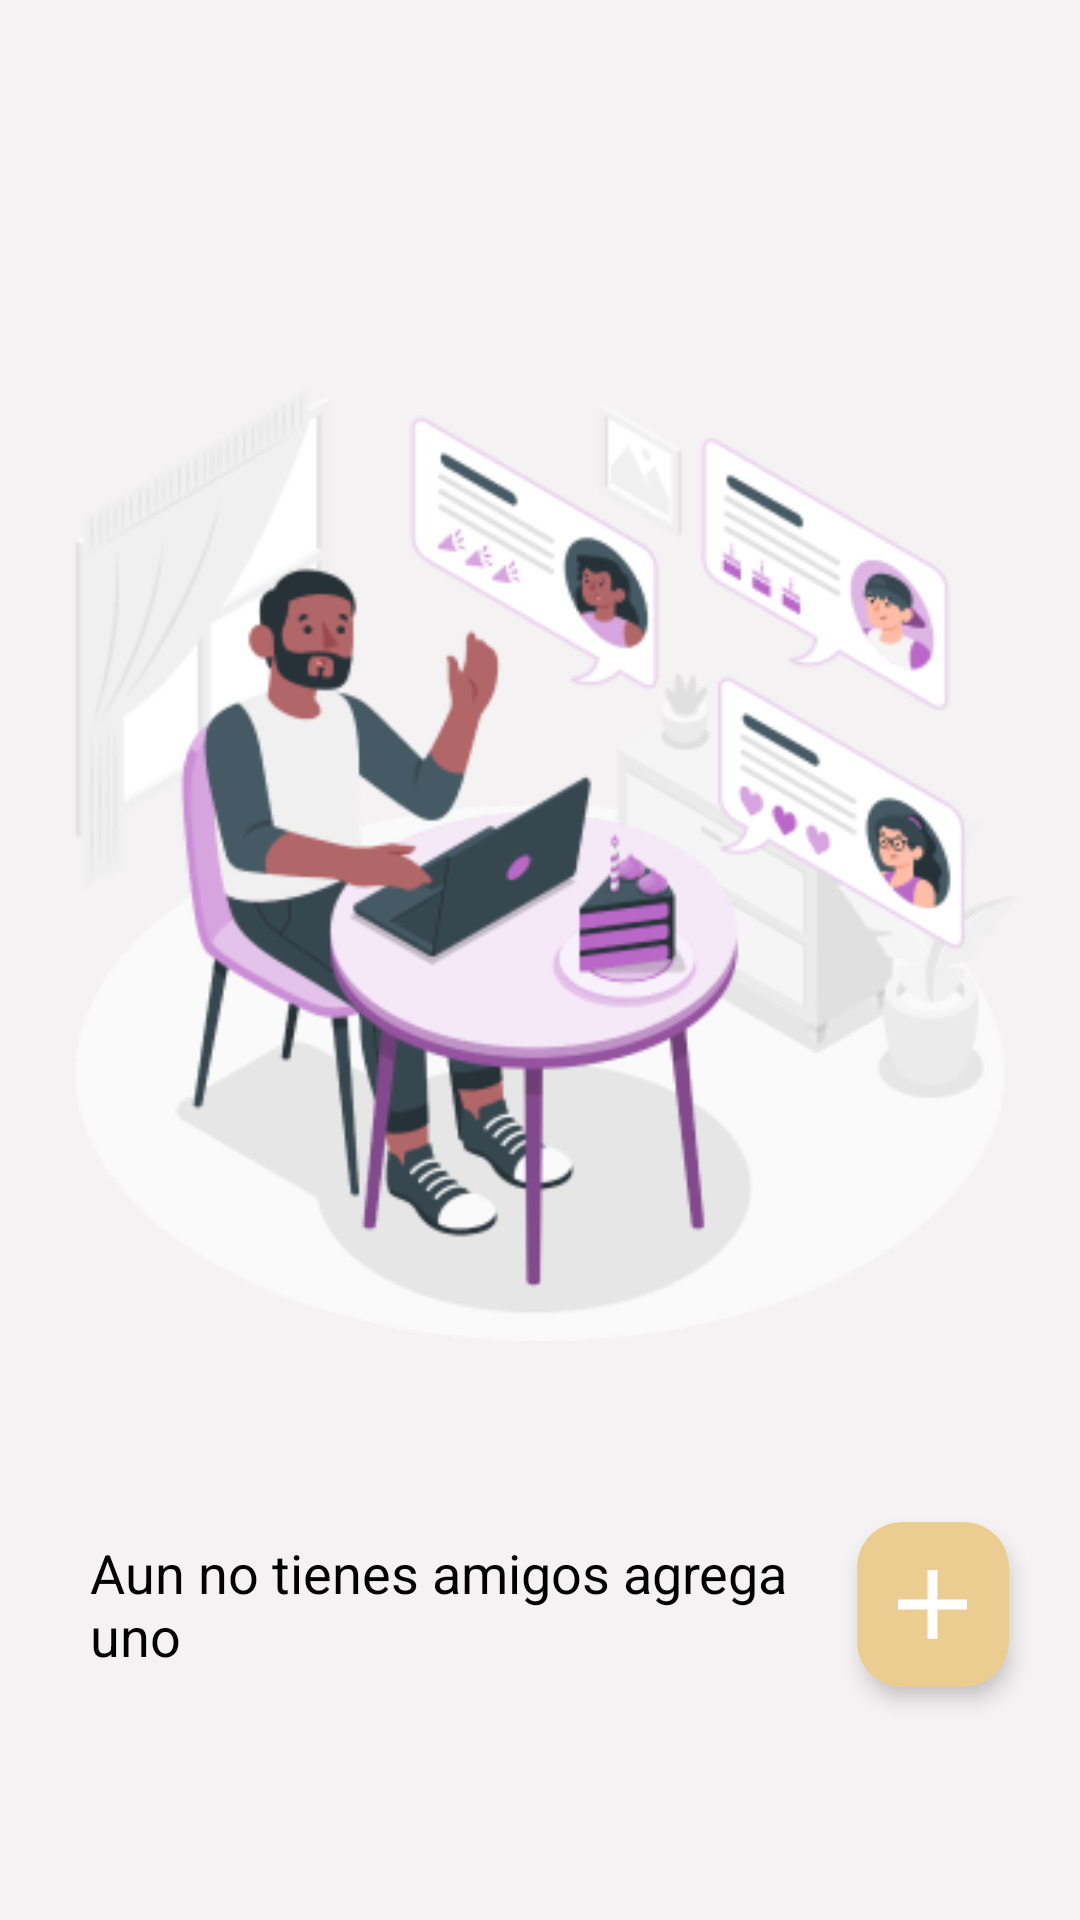

Named icons in this screenshot (1080x1920) and their centers, (x=x, y=y):
plus: (x=932, y=1604)
